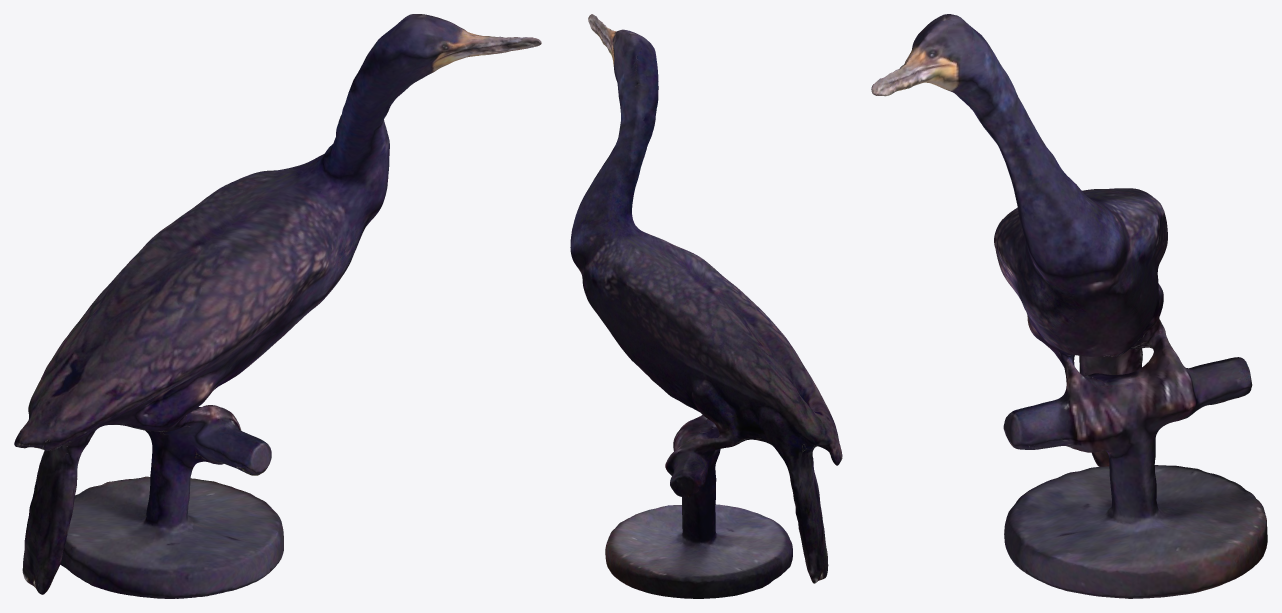
The model's file is nm__anhinga.glb.
The picture shows the model from 3 angles, left to right: view 1: azimuth 30°, elevation 25°; view 2: azimuth 150°, elevation 25°; view 3: azimuth 270°, elevation 25°; orthographic projection. The views are drawn at different scales.
Visible parts, largest first — view 1: material_0-material; view 2: material_0-material; view 3: material_0-material.
Part boxes in pixels (left/top/right/bottom): material_0-material: left=14, top=14, right=541, bottom=598; material_0-material: left=570, top=14, right=842, bottom=598; material_0-material: left=871, top=14, right=1267, bottom=598.
Bounding box in the file's own units: 0.3616 × 0.4581 × 0.2653.
1 material, 1 textured.
